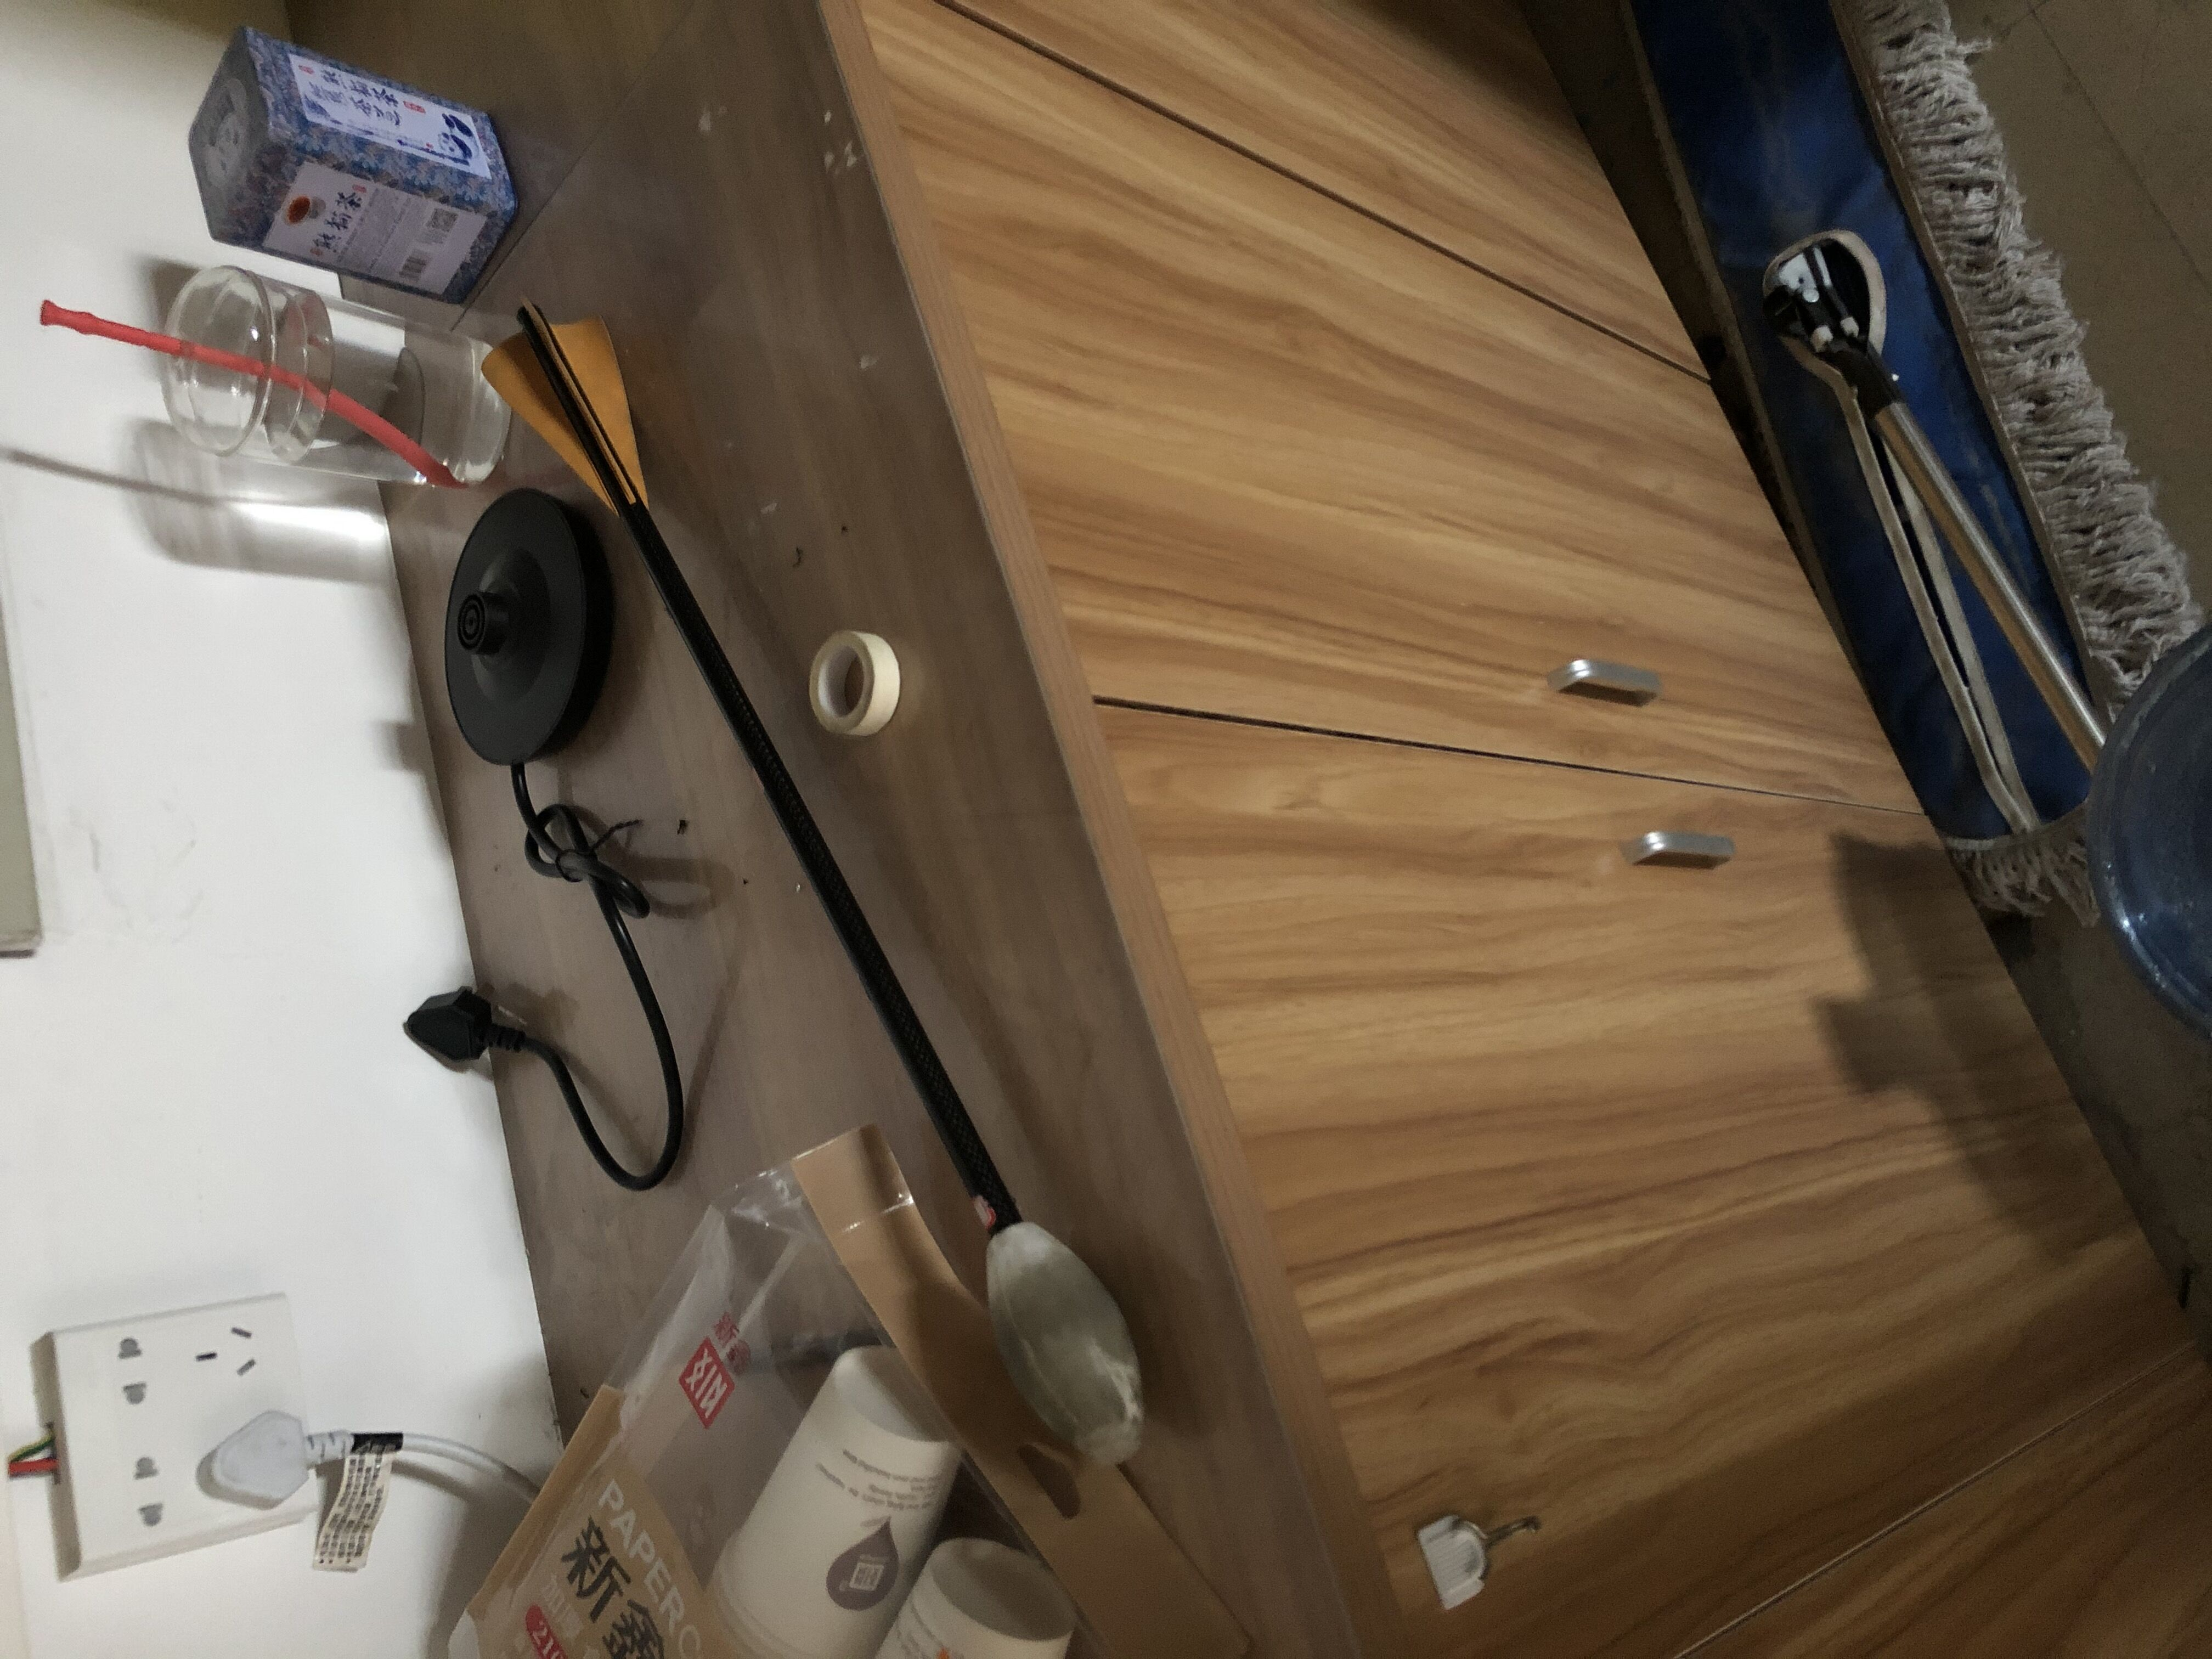arrow: (481, 298, 1146, 1467)
arrowFront: (982, 1213, 1144, 1467)
